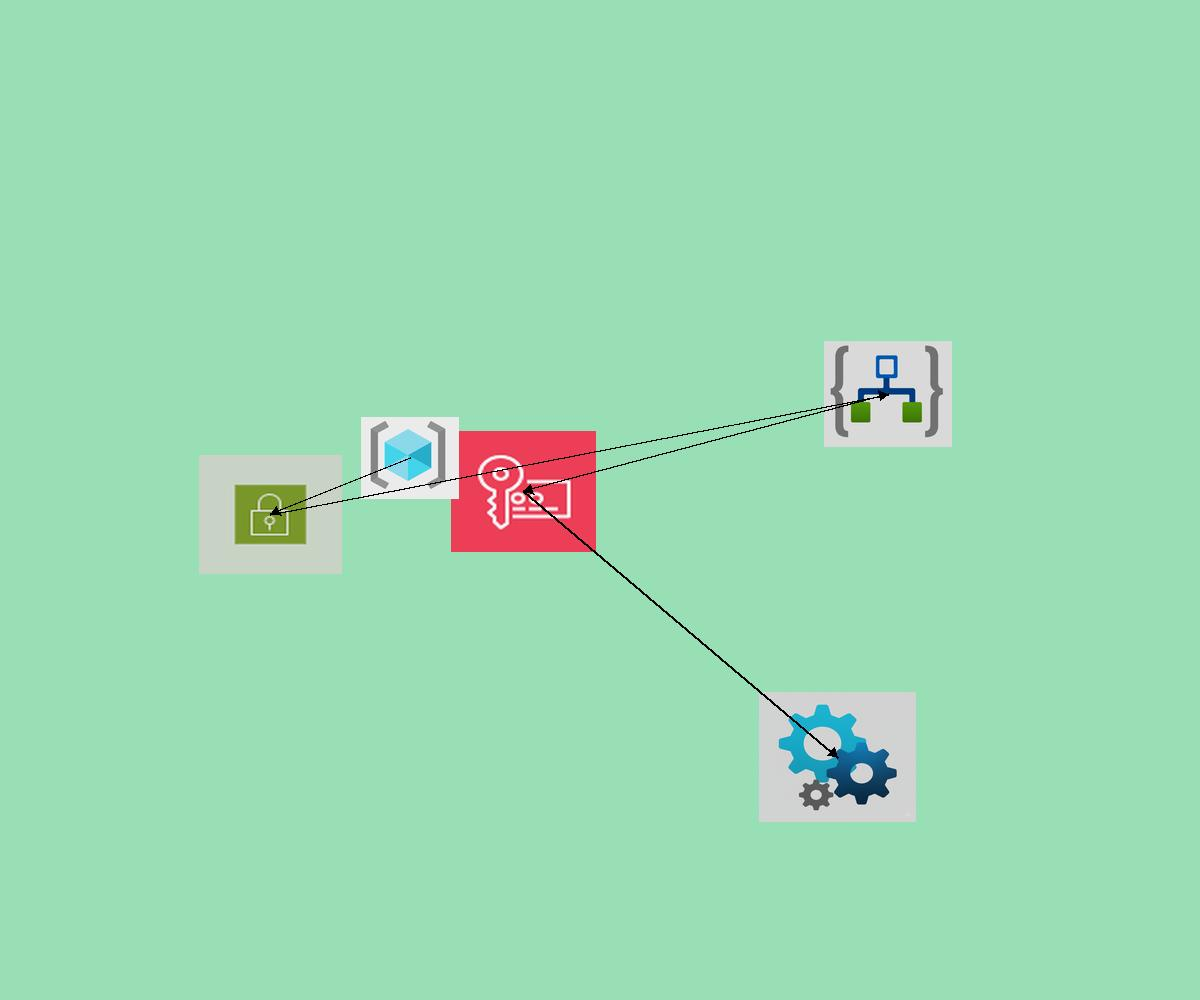AWS-Key-Management-Service: (451, 431, 596, 552)
AWS-Public-subnet: (199, 455, 342, 574)
Azure_api: (759, 692, 916, 822)
Azure_integration-204-Logic-Apps: (824, 341, 952, 447)
Azure_resource_group: (361, 417, 459, 499)
